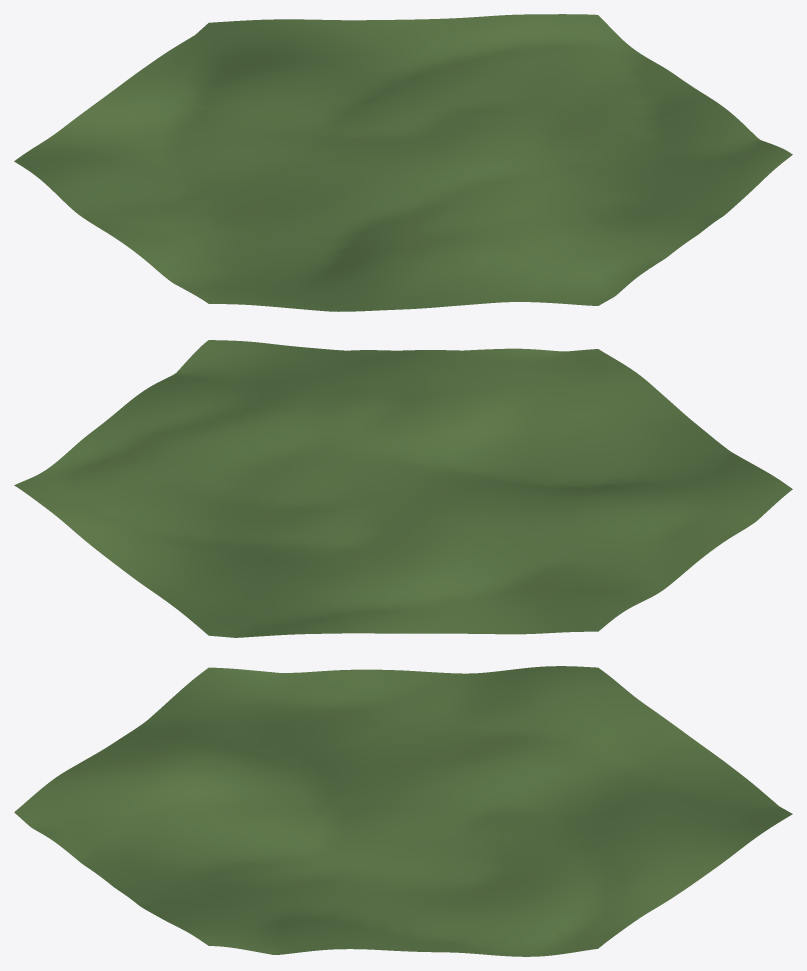
The picture shows the model from 3 angles, top to bottom: view 1: azimuth 30°, elevation 25°; view 2: azimuth 150°, elevation 25°; view 3: azimuth 270°, elevation 25°; orthographic projection.
Parts seen in each view (by area): view 1: JS_+0_12; view 2: JS_+0_12; view 3: JS_+0_12.
Part boxes in pixels (x1=…): JS_+0_12: x1=14, y1=14, x2=792, y2=311; JS_+0_12: x1=14, y1=340, x2=792, y2=637; JS_+0_12: x1=14, y1=666, x2=792, y2=956.
Bounding box in the file's own units: 4330 × 130 × 5000.
